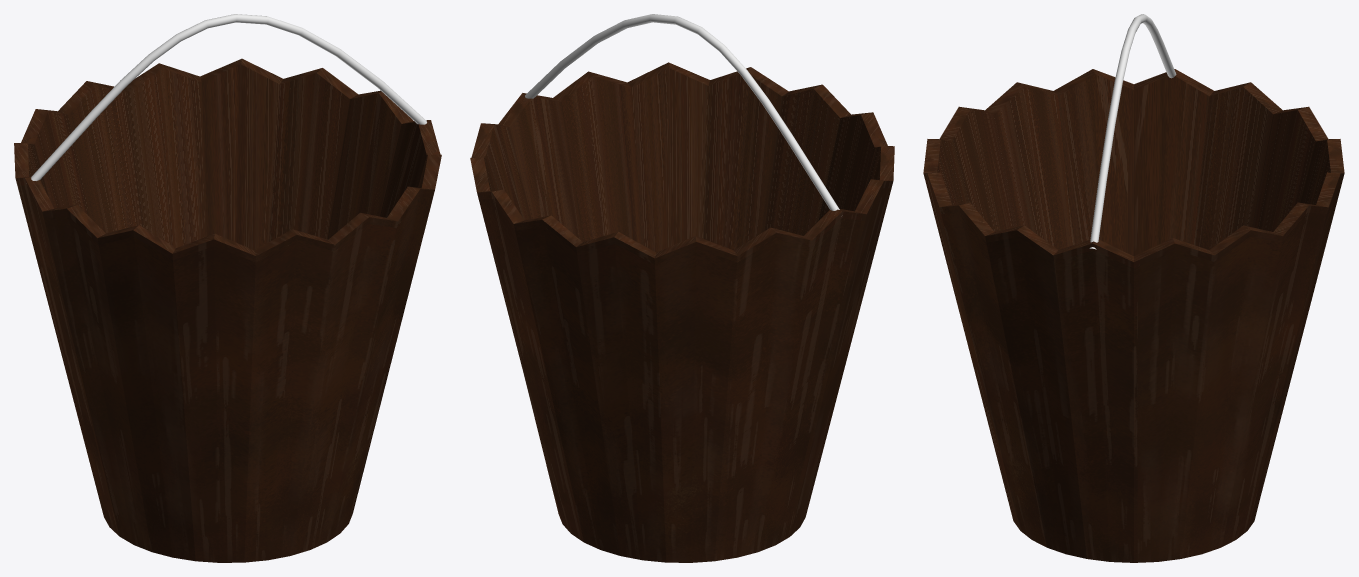
Rendered from WIADRO.fbx.
The picture shows the model from 3 angles, left to right: view 1: azimuth 30°, elevation 25°; view 2: azimuth 150°, elevation 25°; view 3: azimuth 270°, elevation 25°; orthographic projection.
Parts seen in each view (by area): view 1: Walec, BezierKrzywa; view 2: Walec, BezierKrzywa; view 3: Walec, BezierKrzywa.
Part boxes in pixels (box(x1,y1,x2,y2)): Walec: box(14, 58, 441, 562); BezierKrzywa: box(31, 14, 426, 180); Walec: box(470, 62, 894, 562); BezierKrzywa: box(525, 14, 839, 210); Walec: box(923, 69, 1344, 562); BezierKrzywa: box(1089, 14, 1176, 249).
Bounding box in the file's own units: 200 × 255 × 200.
